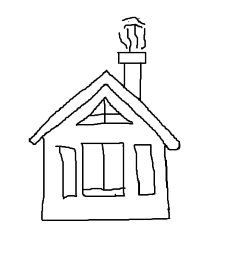closed_window: (78, 135, 129, 204), (77, 95, 131, 130)
open_window: (131, 139, 160, 200), (55, 137, 80, 204)
roof: (21, 65, 194, 150)
smoking_chimney: (110, 11, 153, 103)
wall: (32, 114, 178, 228)
